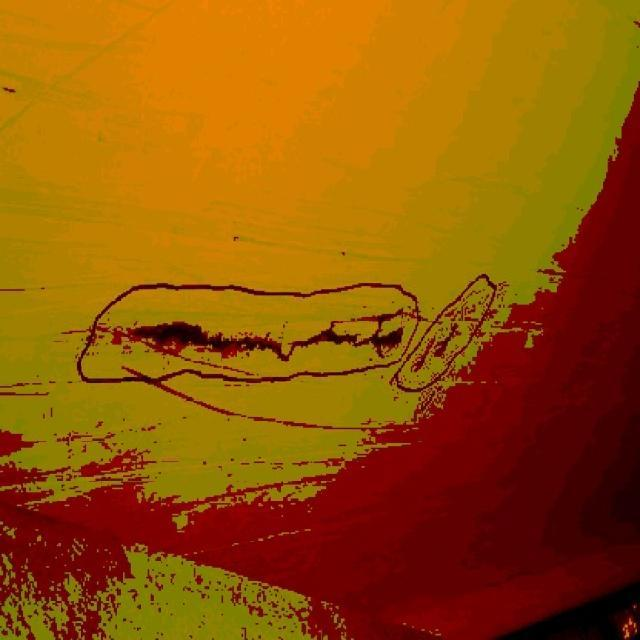crack: (133, 315, 406, 360)
